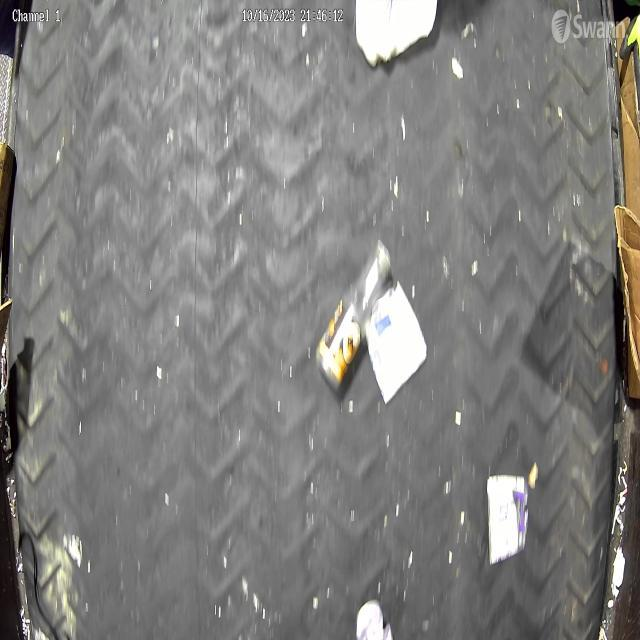can: (366, 280, 428, 406), (486, 472, 530, 566)
plastic_bottle: (316, 238, 392, 394)
